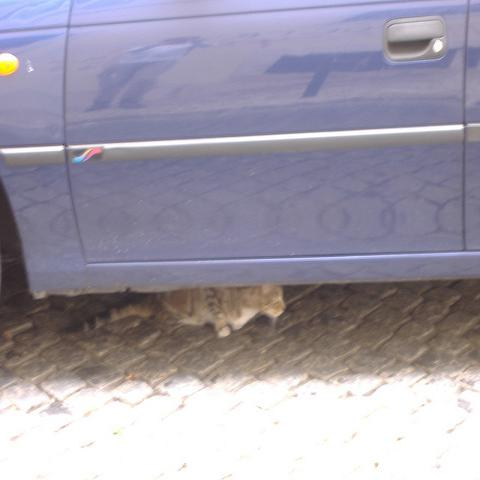car: (1, 0, 479, 305)
